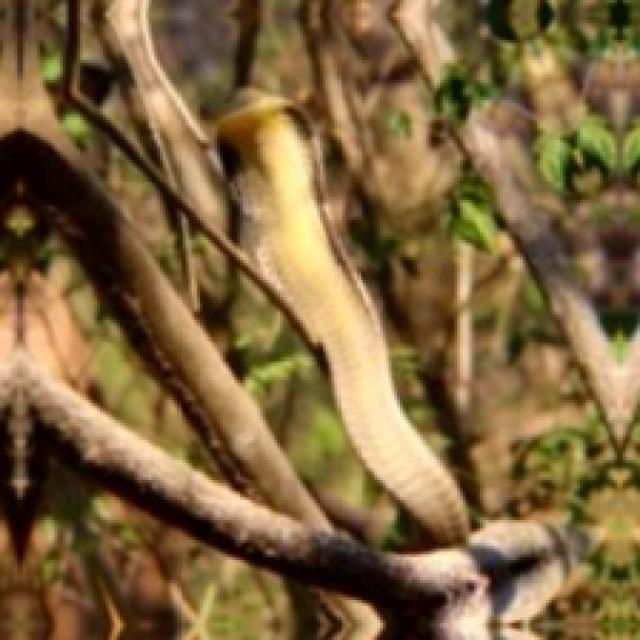king cobra: (217, 94, 466, 540)
